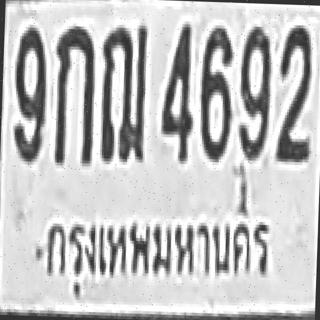A01: (50, 23, 94, 164)
A12: (98, 22, 147, 160)
N02: (275, 23, 313, 161)
N04: (158, 20, 194, 161)
N06: (197, 23, 233, 161)
N09: (10, 24, 46, 162), (236, 23, 272, 161)
P04: (39, 197, 279, 308)
